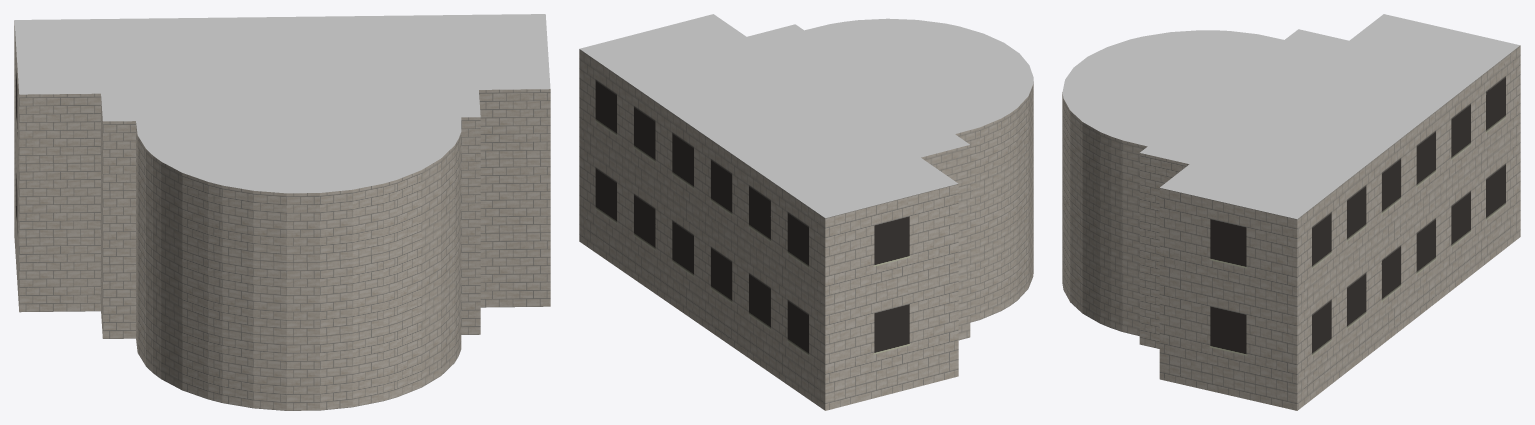
File: building-1-0-262.dae
3 renders of one model, left to right at view 1: azimuth 30°, elevation 25°; view 2: azimuth 150°, elevation 25°; view 3: azimuth 270°, elevation 25°, orthographic. The views are drawn at different scales.
Visible parts, largest first — view 1: geopipeinodeVRAzpWQh (×3); view 2: geopipeinodeVRAzpWQh (×3); view 3: geopipeinodeVRAzpWQh (×3).
Boxes of the visible parts, x1,y1,x2,y2 form: geopipeinodeVRAzpWQh (×3): (14, 14, 550, 410); geopipeinodeVRAzpWQh (×3): (579, 14, 1033, 410); geopipeinodeVRAzpWQh (×3): (1062, 14, 1520, 410).
Size of the model in its own units: 20.21 by 19.05 by 8.8.
